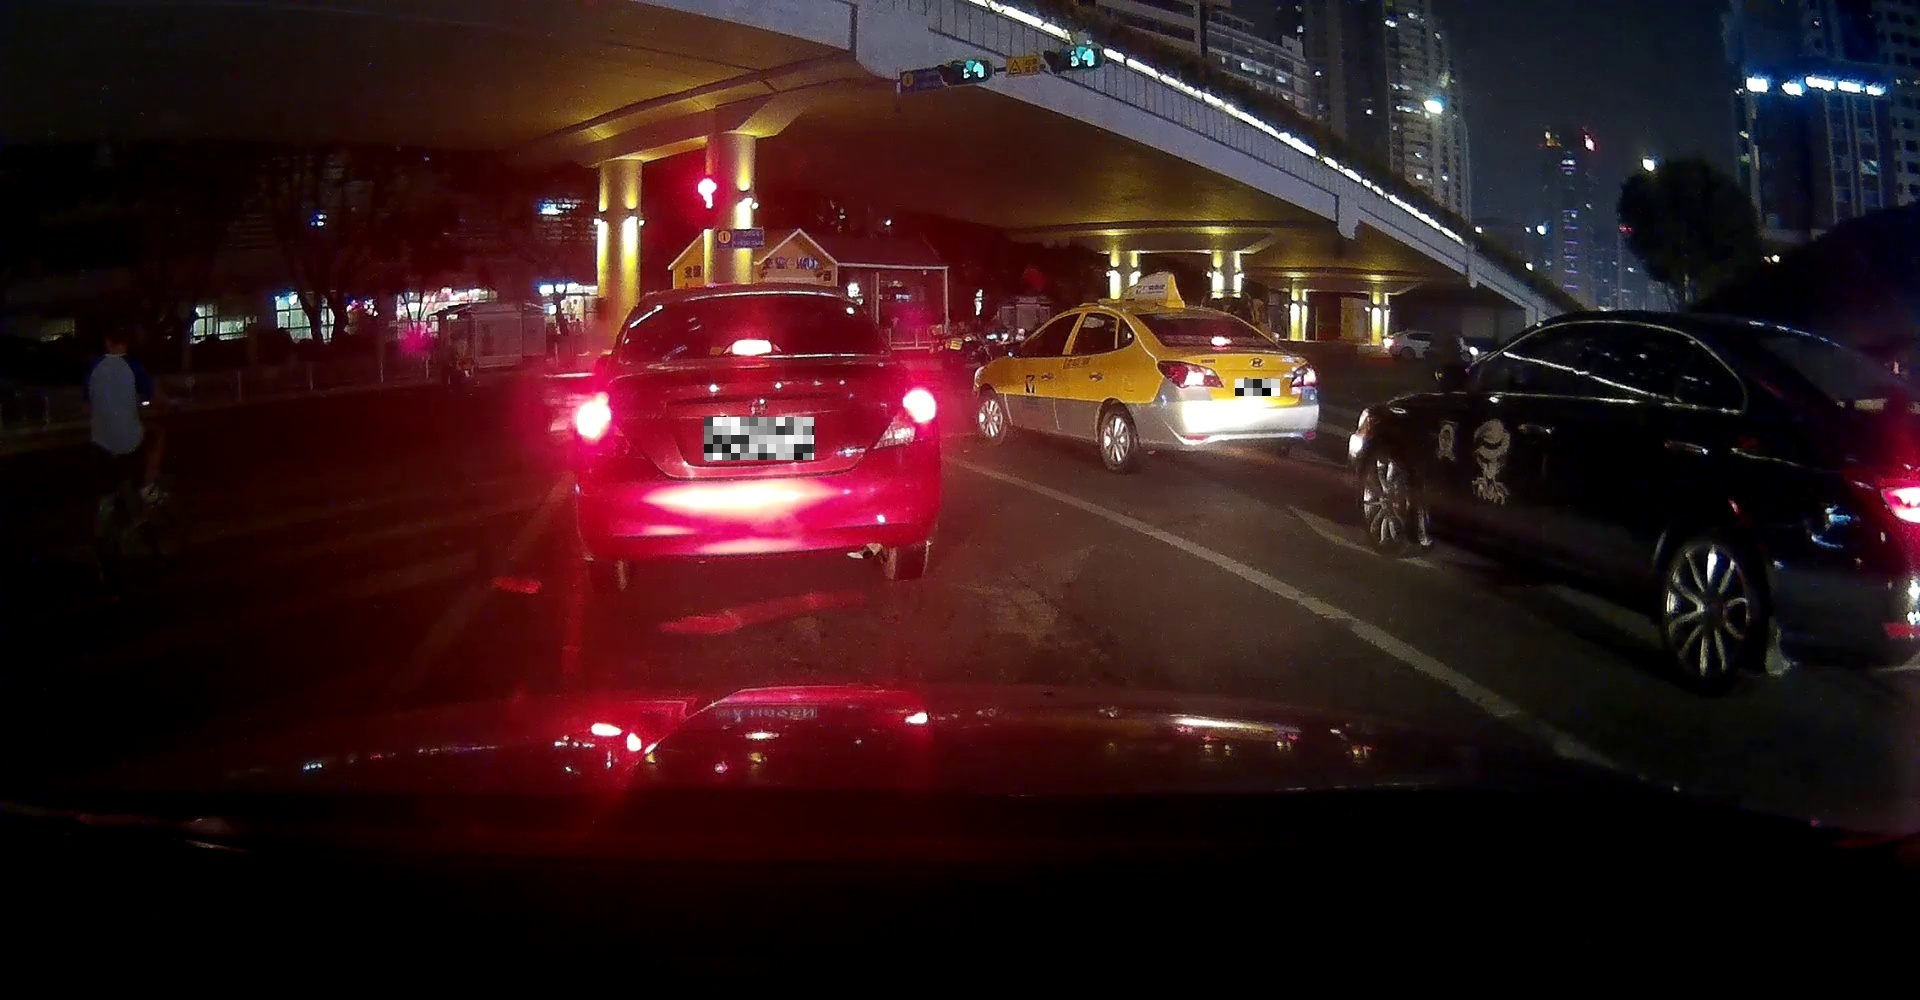L_light: (575, 398, 643, 459), (1157, 359, 1225, 390)
R_light: (872, 390, 937, 451), (1289, 360, 1318, 388)
T_light: (733, 339, 773, 355), (1211, 336, 1230, 345)
night-brake: (560, 282, 945, 588), (1131, 301, 1321, 475)
plate_1: (703, 418, 814, 459)
plate_2: (1236, 379, 1280, 396)
